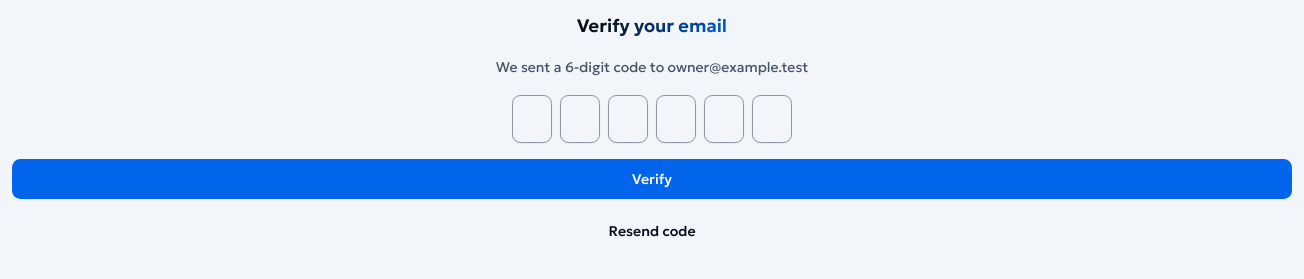
Test: OtpVerificationStage › names each box and announces a wrong-length code
This screenshot has width=1304, height=279.
Click the button "Verify": (652, 179) [12,159,1292,199]
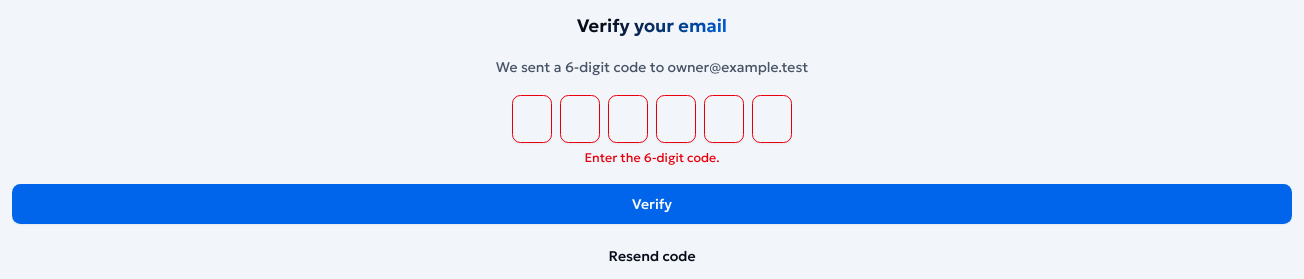
Now the message reads "Enter the 6-digit code.", box [584,150,720,165]
